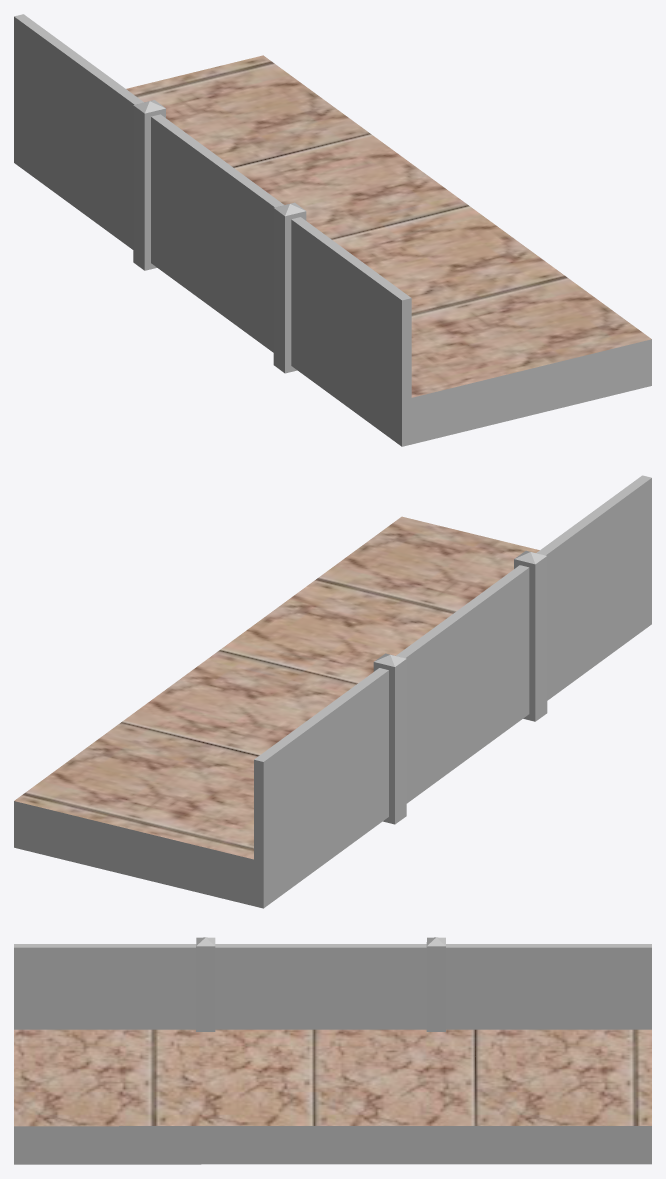
File: footbridge04.fbx
3 renders of one model, top to bottom at view 1: azimuth 30°, elevation 25°; view 2: azimuth 150°, elevation 25°; view 3: azimuth 270°, elevation 25°, orthographic. The views are drawn at different scales.
Visible parts, largest first — view 1: footbridge04; view 2: footbridge04; view 3: footbridge04.
Boxes of the visible parts, bbox=[...] form: footbridge04: bbox=[14, 14, 651, 446]; footbridge04: bbox=[14, 475, 651, 908]; footbridge04: bbox=[14, 937, 651, 1164].
Size of the model in its own units: 3.27 by 1.98 by 8.57.
